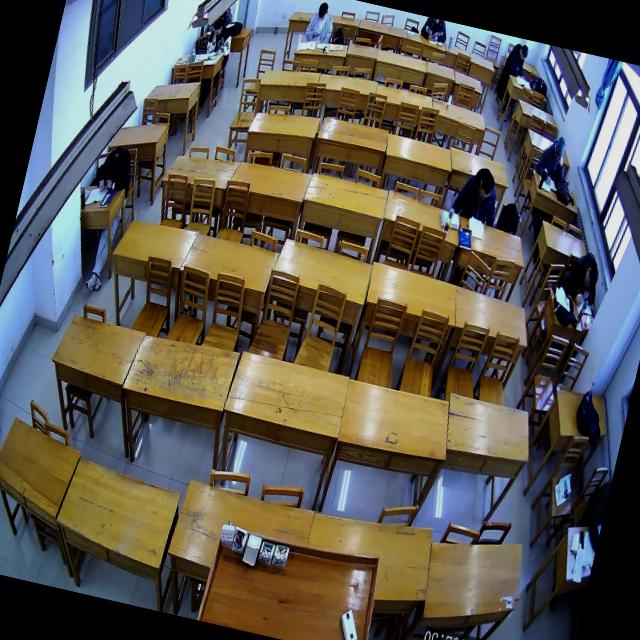down: (476, 172, 495, 202), (582, 262, 600, 290), (552, 138, 566, 161), (516, 42, 530, 61), (316, 1, 329, 21), (211, 16, 223, 36)
sit: (450, 164, 504, 226), (558, 247, 604, 308), (534, 134, 572, 187), (303, 0, 337, 44), (204, 16, 236, 58), (502, 40, 532, 78)
